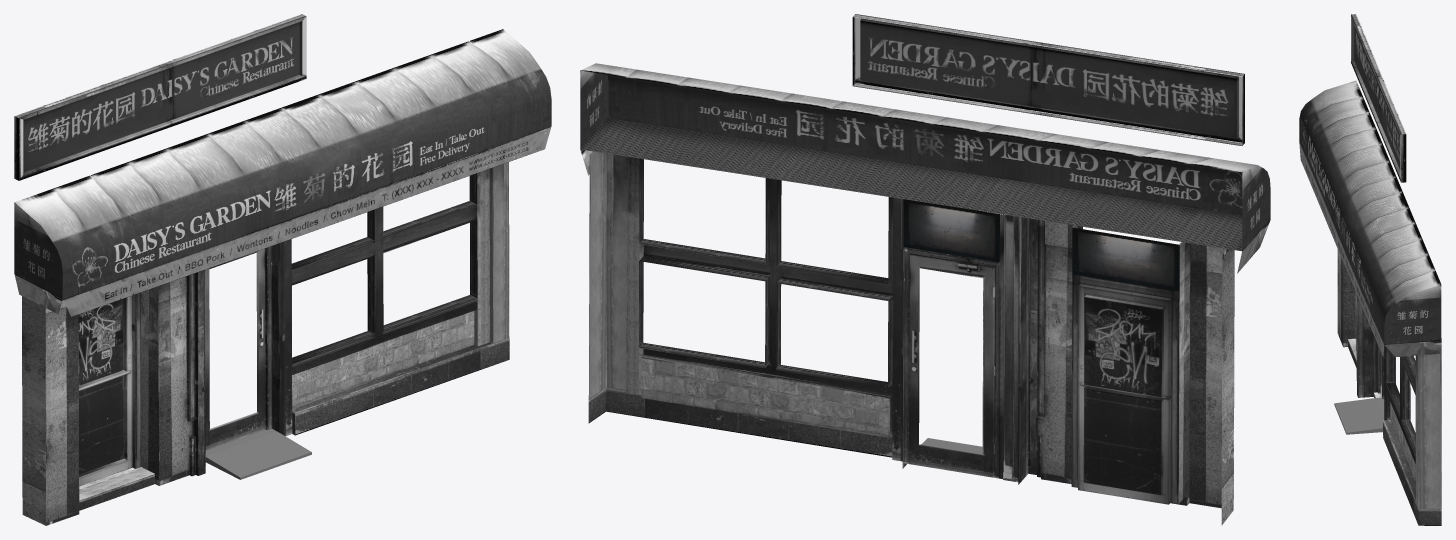
Rendered from daisys_garden.fbx.
The picture shows the model from 3 angles, left to right: view 1: azimuth 30°, elevation 25°; view 2: azimuth 150°, elevation 25°; view 3: azimuth 270°, elevation 25°; orthographic projection. The views are drawn at different scales.
Parts seen in each view (by area): view 1: daisys_garden; view 2: daisys_garden; view 3: daisys_garden.
Boxes of the visible parts, bbox=[...] form: daisys_garden: bbox=[14, 14, 551, 525]; daisys_garden: bbox=[580, 14, 1270, 525]; daisys_garden: bbox=[1299, 14, 1441, 525].
Bounding box in the file's own units: 1014 × 708 × 293.
